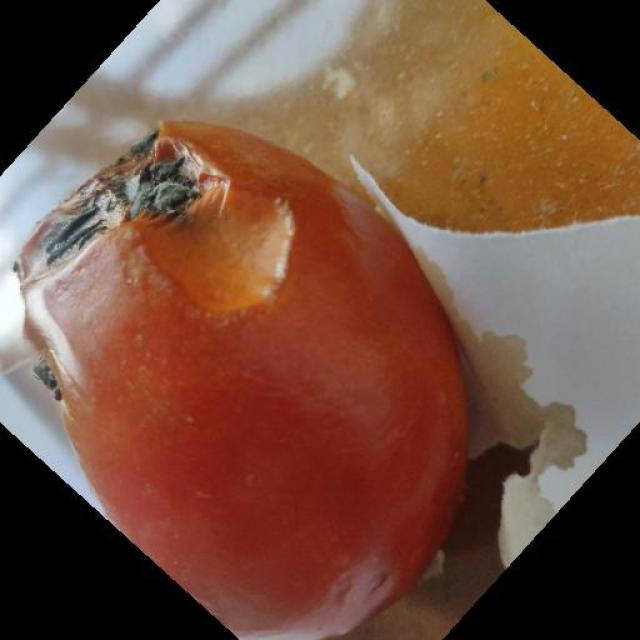Stale_tomato: (0, 152, 488, 640)
